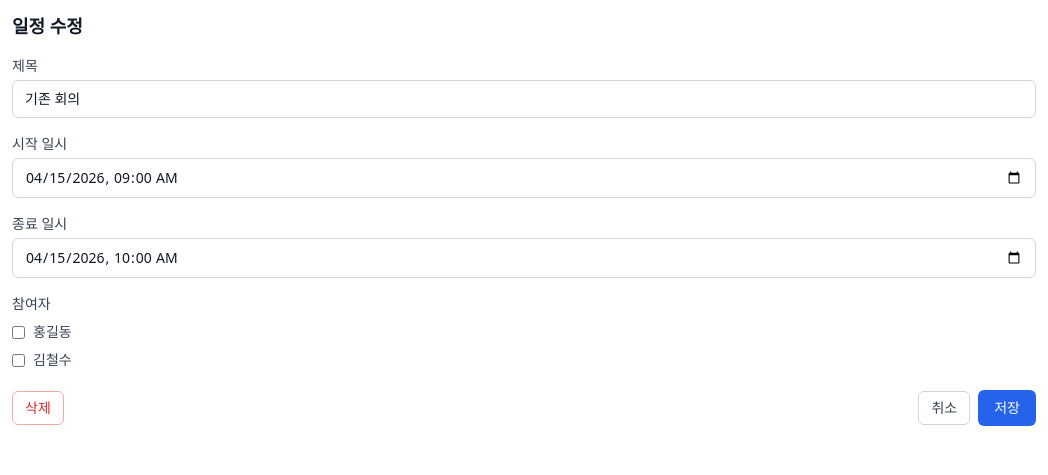
Test case: ScheduleForm - 삭제 › deleteSchedule이 403으로 실패하면 에러 메시지를 표시한다
Click the button "삭제": (38, 408) [12,391,64,425]
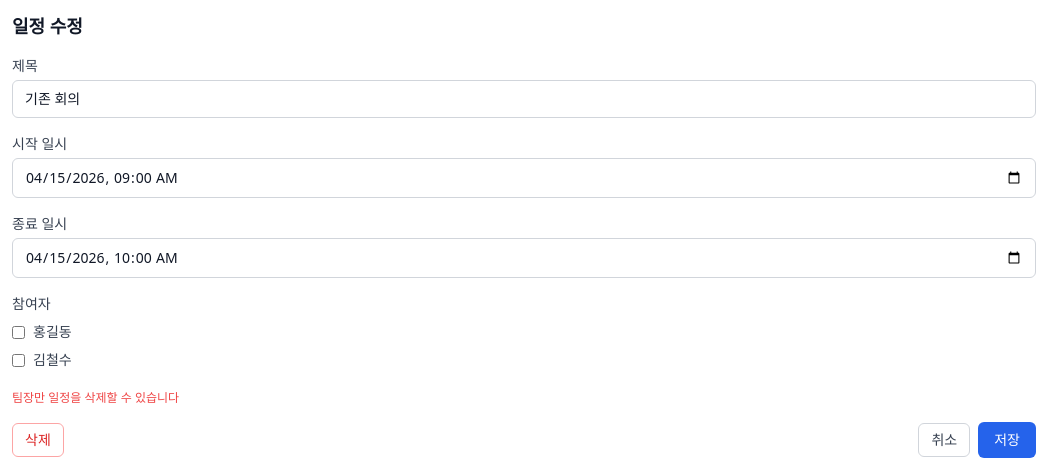
Check: the text "팀장만 일정을 삭제할 수 있습니다" is shown, box [12,389,179,406]
